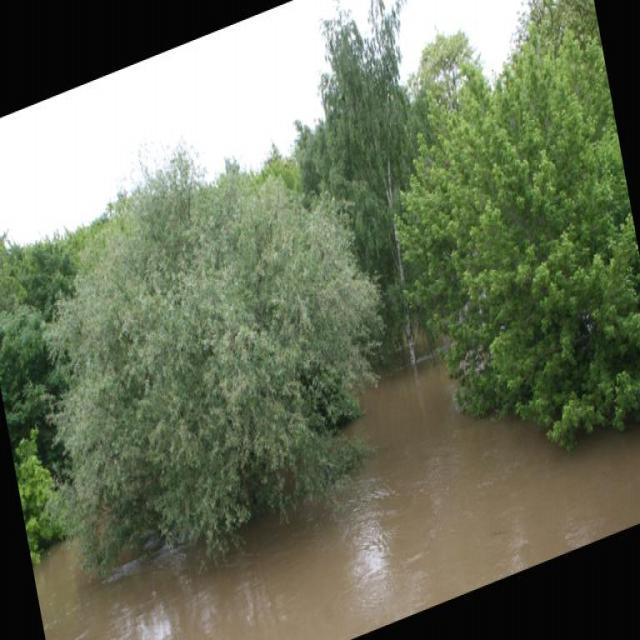flood: (24, 269, 639, 639)
